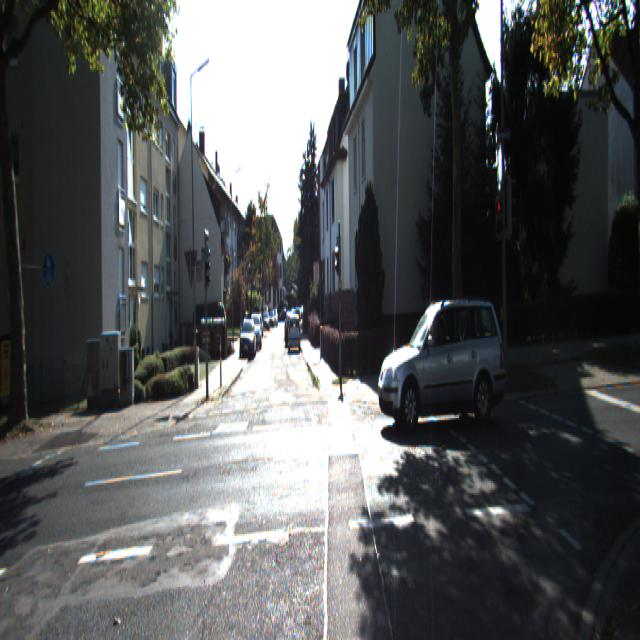Car: (375, 292, 509, 432), (239, 320, 256, 361), (286, 315, 300, 356)
